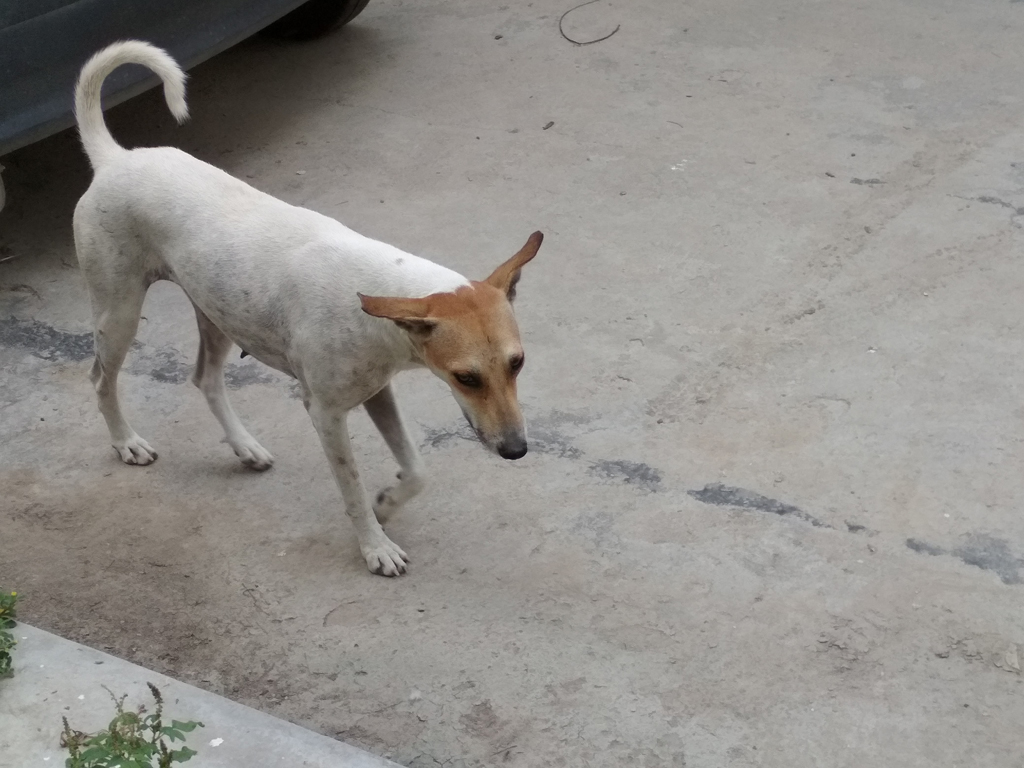dog: (72, 39, 546, 575)
